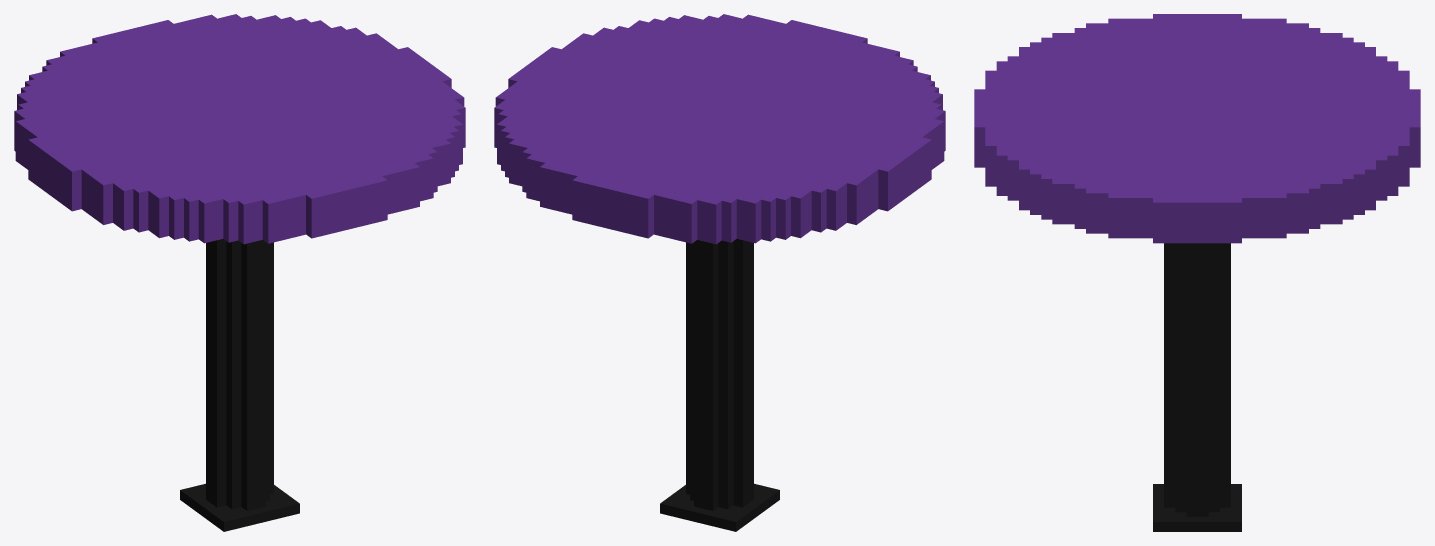
File: mesa.obj
The picture shows the model from 3 angles, left to right: view 1: azimuth 30°, elevation 25°; view 2: azimuth 150°, elevation 25°; view 3: azimuth 270°, elevation 25°; orthographic projection.
Bounding box in the file's own units: 4 × 4 × 4.
Materials: 1 (1 with a texture image).
